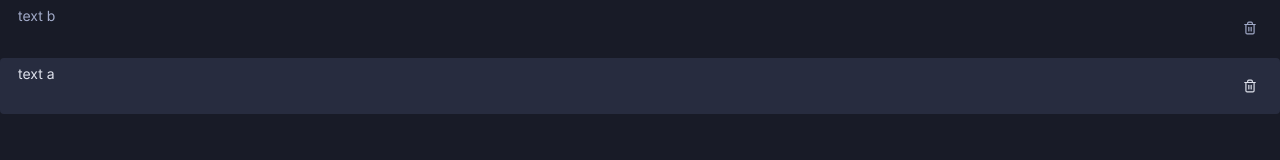
Test: SavedView › on a wide window › falls back to the newest entry when the selected one is removed
Click the 2nd button named "saved.remove" at (1250, 86), box x1=1228 y1=64 x2=1272 y2=108
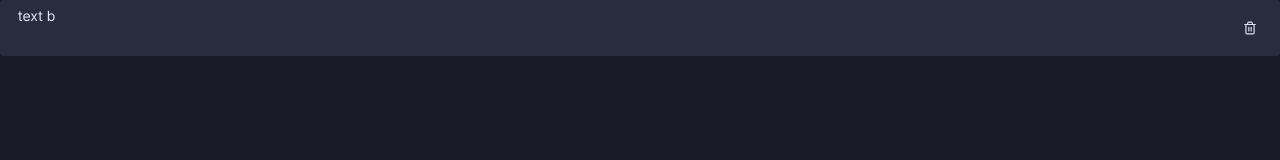
Result: the number of buttons with test id "saved-row" is 1 at x1=0 y1=0 x2=1279 y2=56
